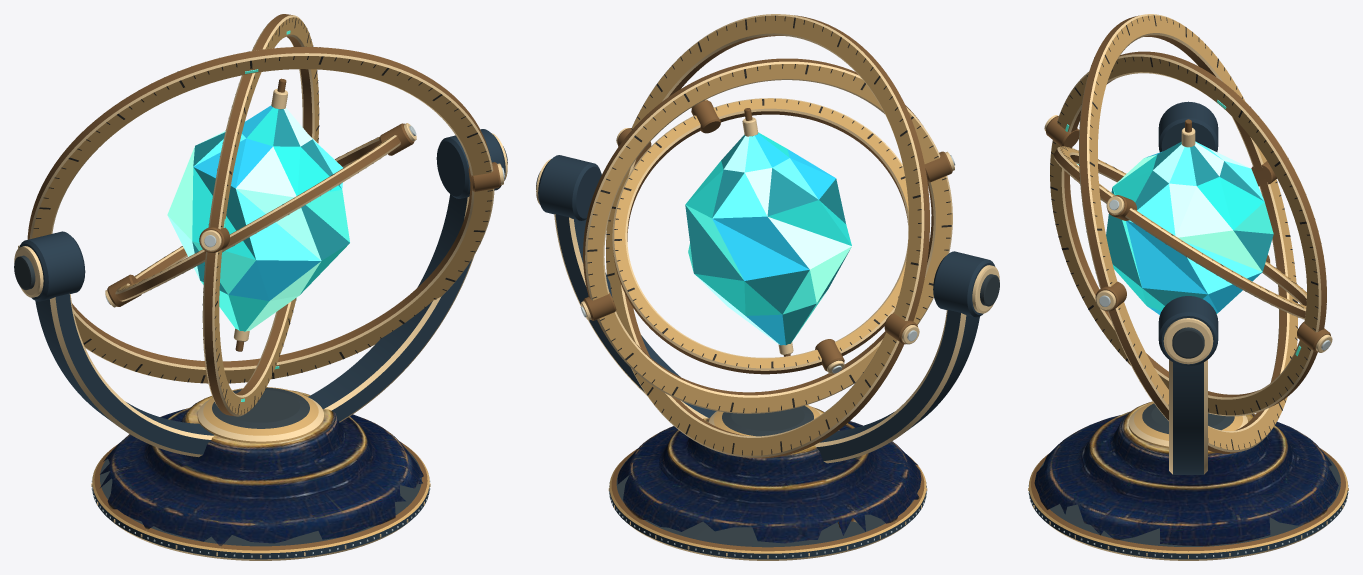
Rendered from instrument.glb.
The picture shows the model from 3 angles, left to right: view 1: azimuth 30°, elevation 25°; view 2: azimuth 150°, elevation 25°; view 3: azimuth 270°, elevation 25°; orthographic projection. The views are drawn at different scales.
Parts seen in each view (by area): view 1: AzimuthPedestal, GimbalOuter, PrismCore, MeridianFork, GimbalMiddle, GimbalInner; view 2: AzimuthPedestal, PrismCore, GimbalOuter, GimbalMiddle, MeridianFork, GimbalInner; view 3: AzimuthPedestal, PrismCore, GimbalMiddle, GimbalOuter, MeridianFork, GimbalInner.
Boxes of the visible parts, left/top/right/bottom form: AzimuthPedestal: left=91, top=387, right=430, bottom=560; GimbalOuter: left=18, top=46, right=504, bottom=383; PrismCore: left=167, top=78, right=349, bottom=351; MeridianFork: left=14, top=129, right=507, bottom=457; GimbalMiddle: left=199, top=14, right=319, bottom=416; GimbalInner: left=105, top=123, right=416, bottom=307; AzimuthPedestal: left=608, top=405, right=927, bottom=560; PrismCore: left=685, top=108, right=851, bottom=356; GimbalOuter: left=606, top=14, right=929, bottom=458; GimbalMiddle: left=580, top=58, right=955, bottom=413; MeridianFork: left=536, top=155, right=999, bottom=463; GimbalInner: left=612, top=98, right=908, bottom=374; AzimuthPedestal: left=1028, top=401, right=1348, bottom=560; PrismCore: left=1106, top=119, right=1273, bottom=314; GimbalMiddle: left=1044, top=51, right=1332, bottom=416; GimbalOuter: left=1078, top=14, right=1297, bottom=453; MeridianFork: left=1158, top=101, right=1218, bottom=474; GimbalInner: left=1053, top=146, right=1306, bottom=319.
Size of the model in its own units: 2.49 by 2.4 by 1.53.
Materials: 14 (1 with a texture image).
